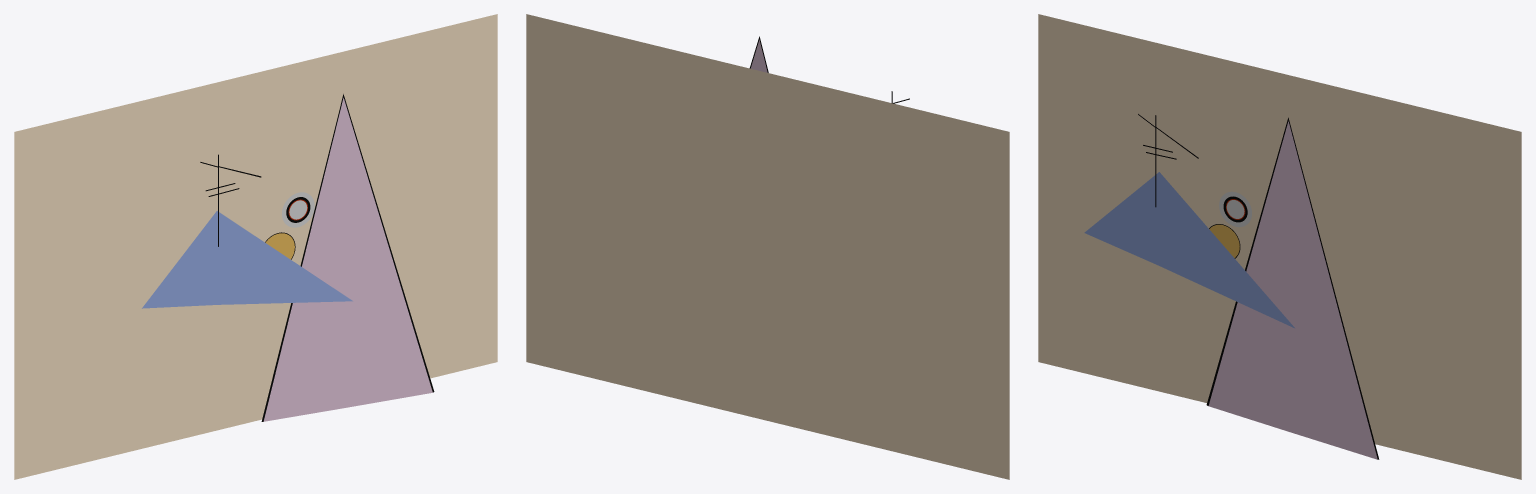
File: Shapes2.fbx
The picture shows the model from 3 angles, left to right: view 1: azimuth 30°, elevation 25°; view 2: azimuth 150°, elevation 25°; view 3: azimuth 330°, elevation 25°; orthographic projection.
Parts seen in each view (by area): view 1: Plane.001, pinkTru, BlueTri, Circle, Circle.001; view 2: Plane.001; view 3: Plane.001, pinkTru, BlueTri, Circle, Circle.001.
Boxes of the visible parts, <box> form: Plane.001: <box>14,14,497,479</box>; pinkTru: <box>261,94,434,421</box>; BlueTri: <box>142,211,352,308</box>; Circle: <box>282,192,314,227</box>; Circle.001: <box>265,232,295,259</box>; Plane.001: <box>526,14,1009,479</box>; Plane.001: <box>1038,14,1521,479</box>; pinkTru: <box>1206,117,1379,459</box>; BlueTri: <box>1084,172,1294,328</box>; Circle: <box>1219,191,1251,227</box>; Circle.001: <box>1209,224,1240,258</box>.
Size of the model in its own units: 500 by 344 by 77.64.
